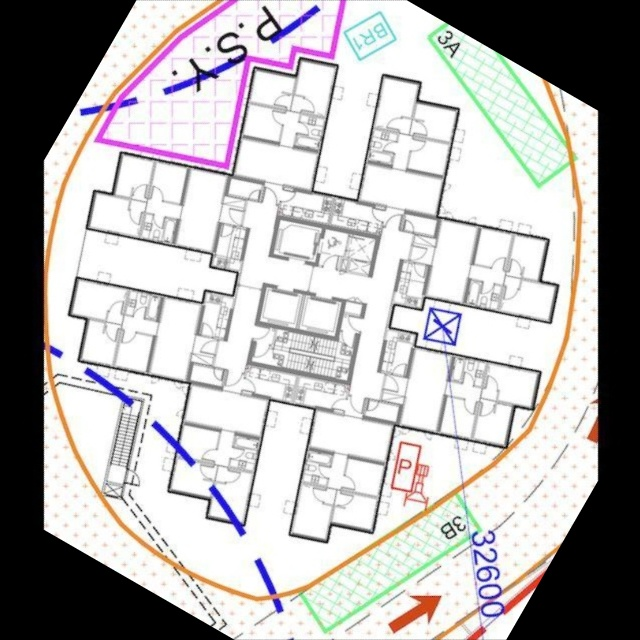tower_crane: (420, 303, 466, 349)
